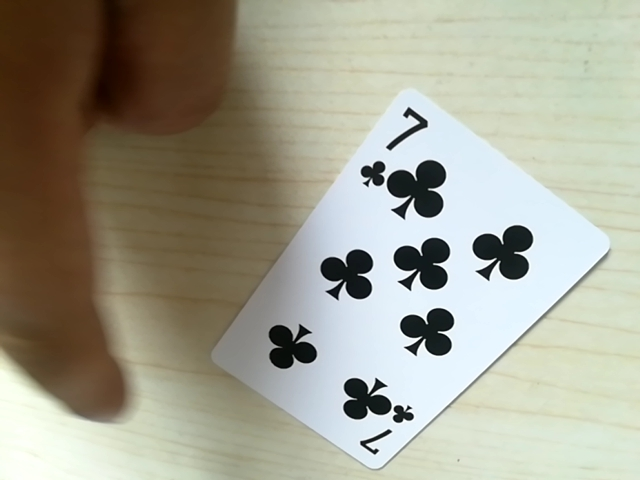mh 7: (356, 93, 433, 192), (341, 401, 414, 462)
